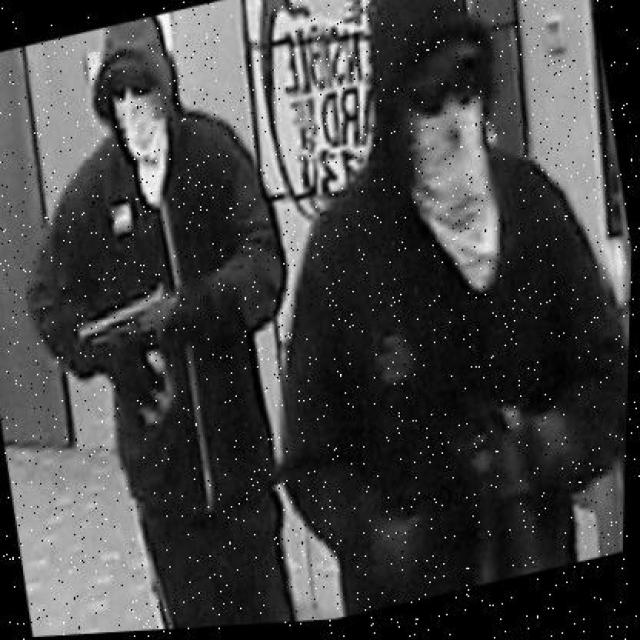weapon: (72, 279, 185, 379)
